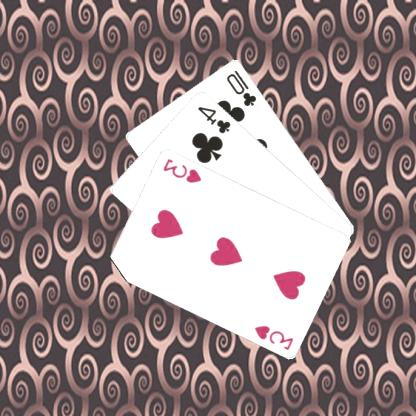10C: (226, 67, 260, 107)
3H: (253, 322, 296, 351), (162, 156, 204, 184)
4C: (197, 103, 234, 135)
